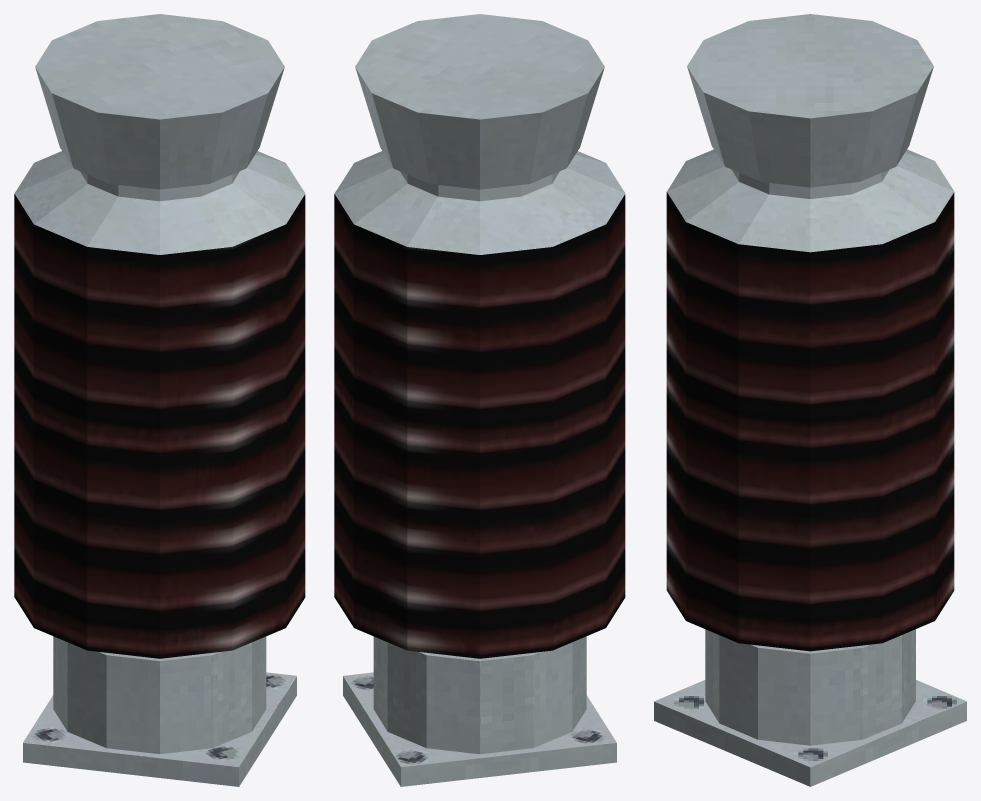
File: jyzz042-geode.glb
3 renders of one model, left to right at view 1: azimuth 30°, elevation 25°; view 2: azimuth 150°, elevation 25°; view 3: azimuth 270°, elevation 25°, orthographic.
Visible parts, largest first — view 1: Node; view 2: Node; view 3: Node.
Part boxes in pixels (x1,y1,x2,y2): Node: [14, 14, 305, 786]; Node: [334, 14, 625, 786]; Node: [654, 14, 966, 786].
Bounding box in the file's own units: 0.1886 × 0.4357 × 0.1886.
3 materials, 3 textured.
